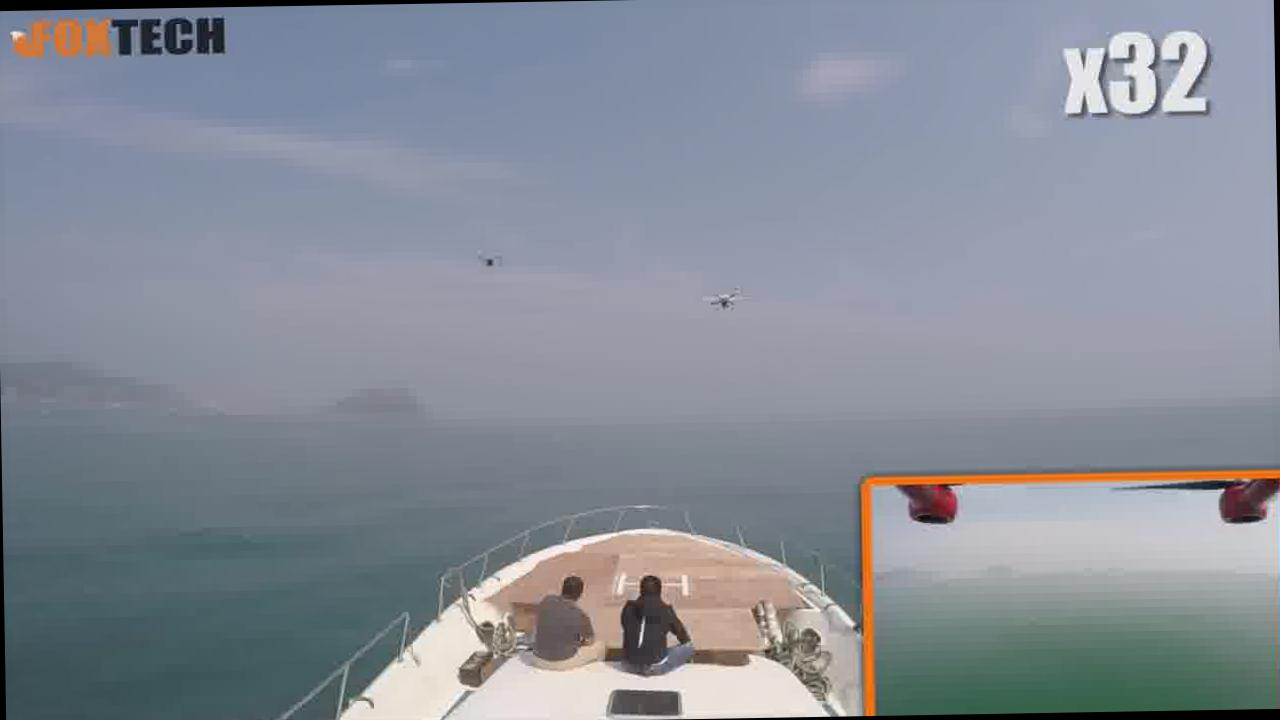drone: (451, 227, 516, 285), (694, 265, 756, 319)
